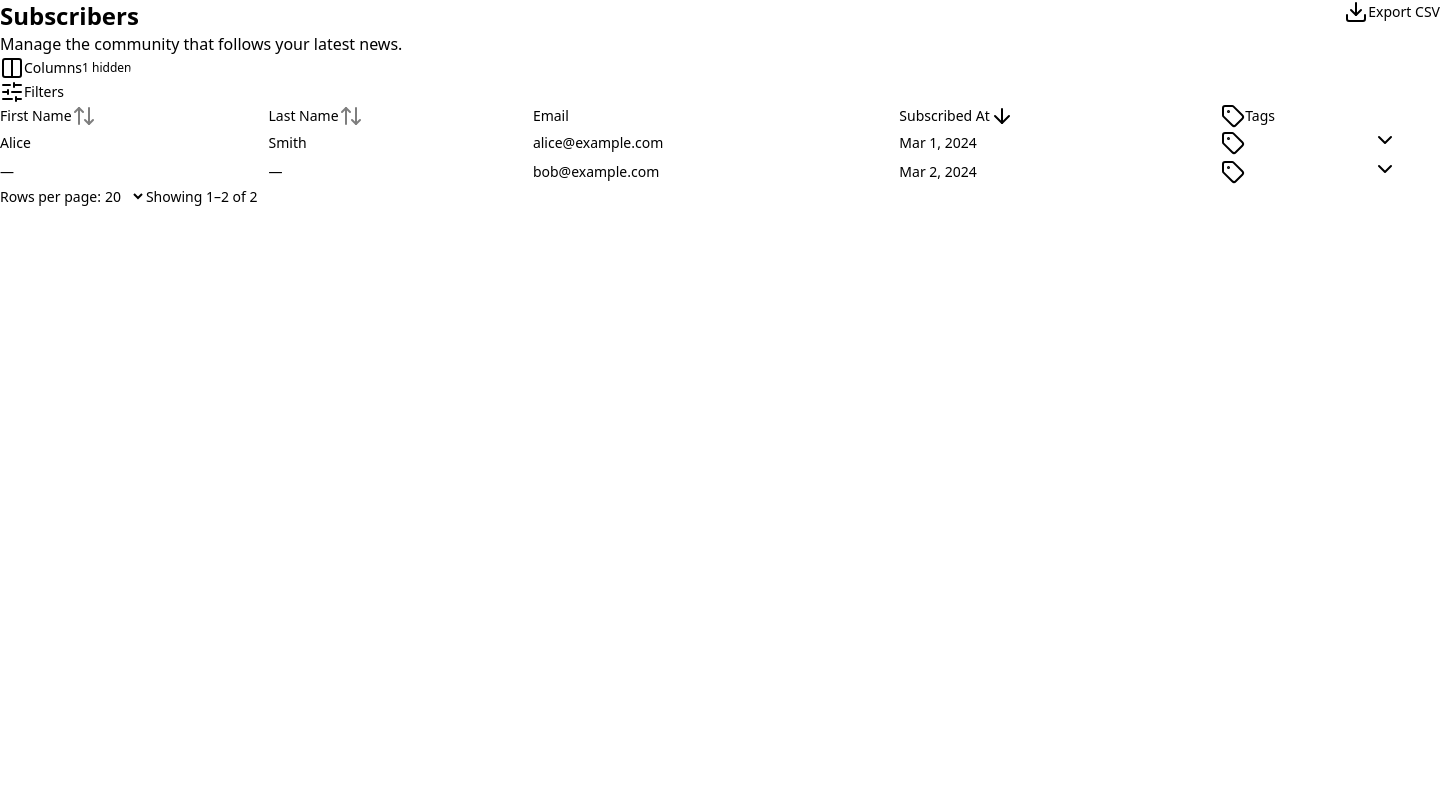
SubscribersTable › tags › clicking Manage tags button in tags cell opens the dialog
Click the button named "manage tags" in the row of "Smith" at (1233, 142), box x1=1221 y1=130 x2=1245 y2=154
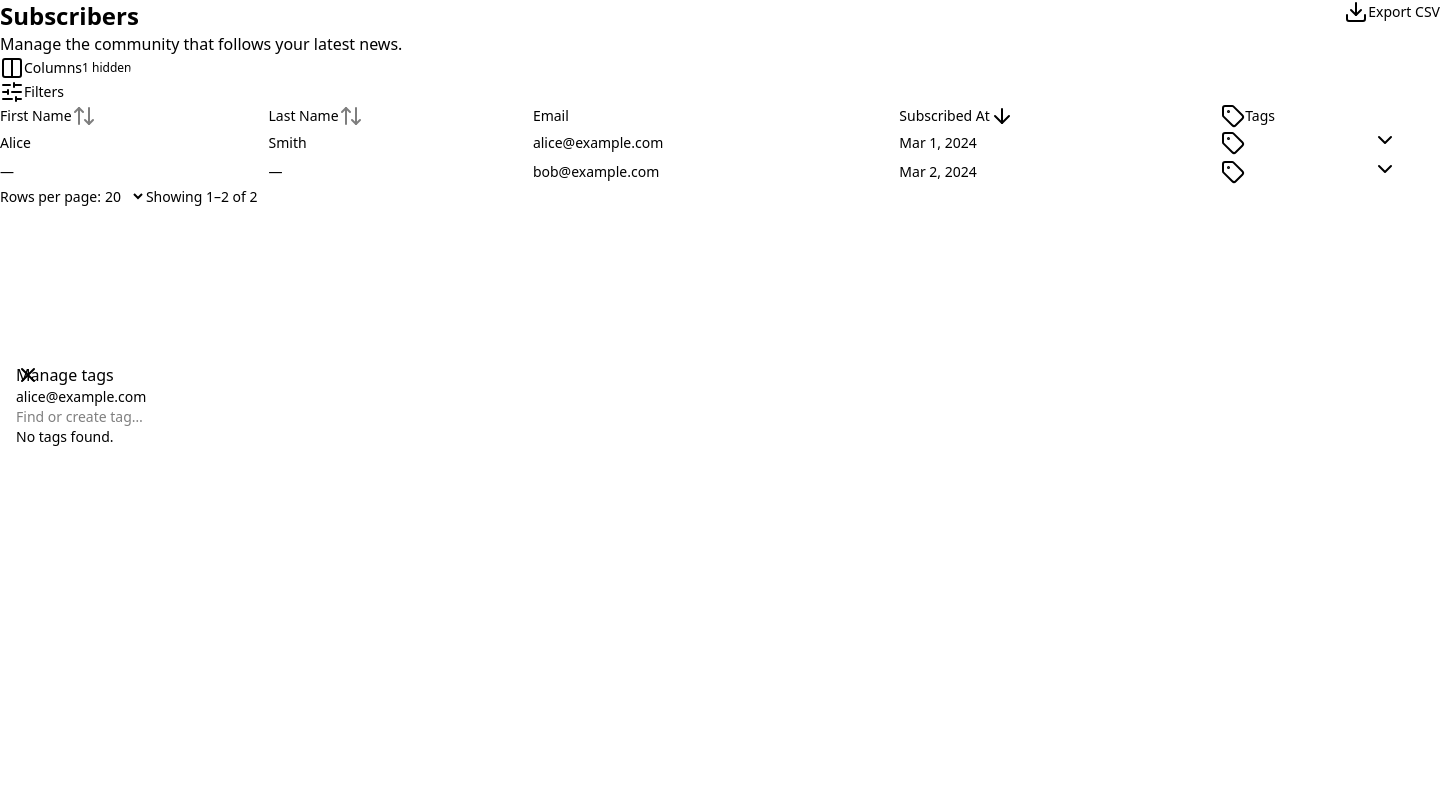
Expected: the dialog "Manage tags alice@example.com No tags found." is shown, x1=16 y1=363 x2=1424 y2=447
